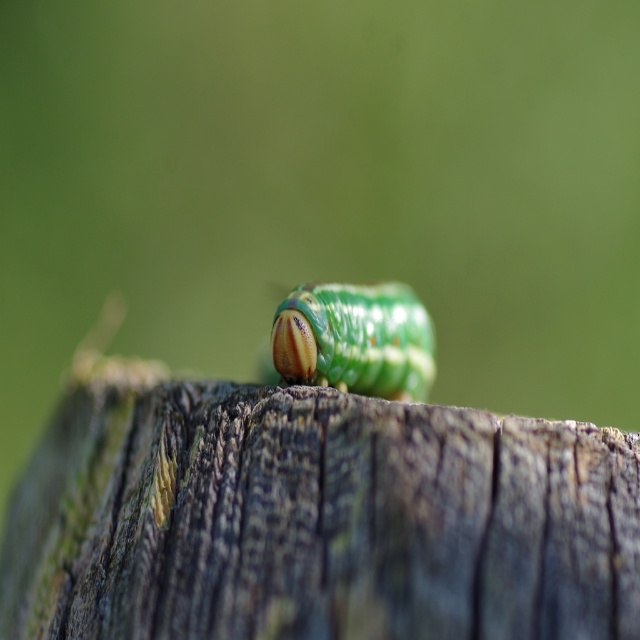Caterpillar: (258, 281, 439, 401)
